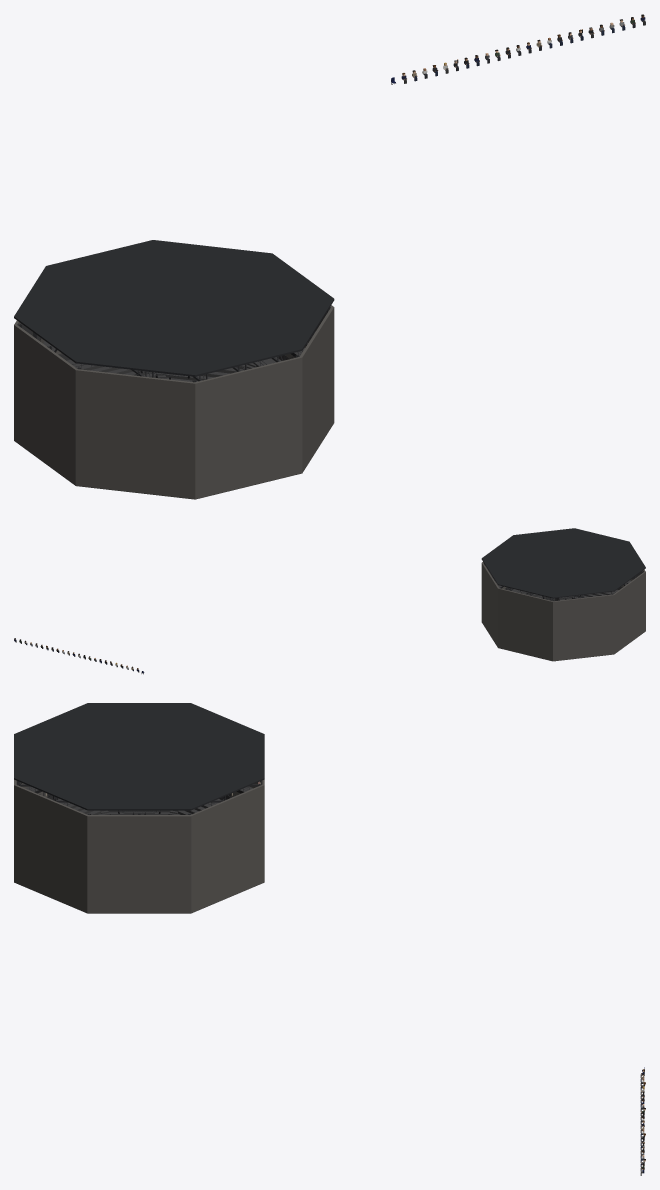
Rendered from Arena_Hall_v04_Roblox.fbx.
The picture shows the model from 3 angles, top to bottom: view 1: azimuth 30°, elevation 25°; view 2: azimuth 150°, elevation 25°; view 3: azimuth 270°, elevation 25°; orthographic projection. The views are drawn at different scales.
Parts seen in each view (by area): view 1: Shell__HL_Wall_WarmGrey, Roof__HL_Roof_Dark, Seating__HL_Tier_Concrete; view 2: Shell__HL_Wall_WarmGrey, Roof__HL_Roof_Dark, Seating__HL_Tier_Concrete; view 3: Shell__HL_Wall_WarmGrey, Roof__HL_Roof_Dark, Seating__HL_Tier_Concrete.
Boxes of the visible parts, x1=… form: Shell__HL_Wall_WarmGrey: x1=14, y1=305, x2=334, y2=499; Roof__HL_Roof_Dark: x1=14, y1=240, x2=334, y2=376; Seating__HL_Tier_Concrete: x1=66, y1=357, x2=281, y2=381; Shell__HL_Wall_WarmGrey: x1=481, y1=562, x2=645, y2=661; Roof__HL_Roof_Dark: x1=481, y1=528, x2=645, y2=598; Seating__HL_Tier_Concrete: x1=509, y1=589, x2=618, y2=600; Shell__HL_Wall_WarmGrey: x1=14, y1=779, x2=264, y2=913; Roof__HL_Roof_Dark: x1=14, y1=703, x2=264, y2=810; Seating__HL_Tier_Concrete: x1=57, y1=799, x2=220, y2=814.
Bounding box in the file's own units: 13862 × 1830 × 10033.
Materials: 44 (4 with a texture image).
